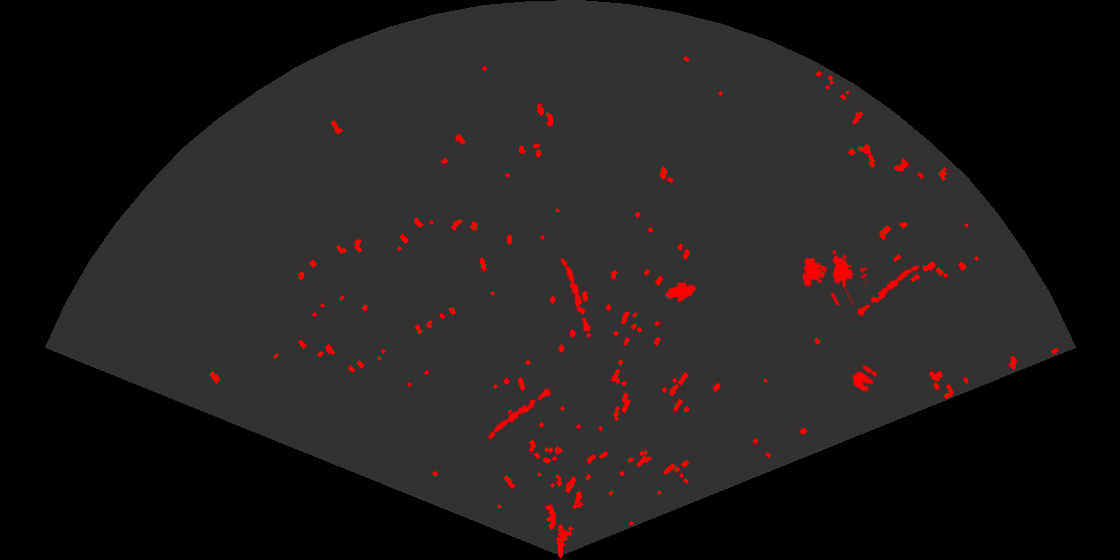AUV: (663, 280, 698, 304)
ball: (851, 363, 879, 393)
cage: (801, 249, 867, 305)
chain: (847, 264, 921, 322), (486, 384, 555, 441), (559, 256, 593, 334)
